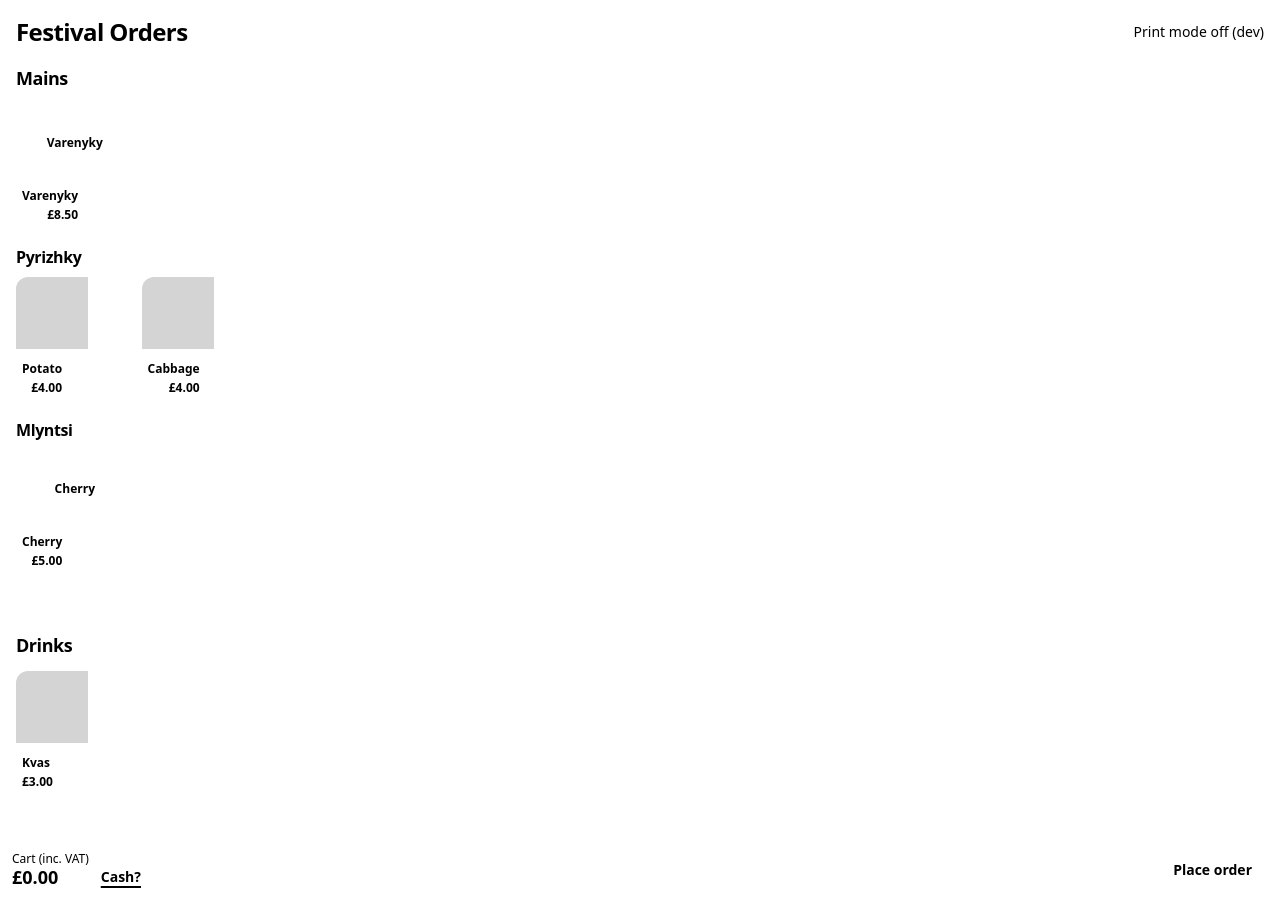
it: FestivalTillPage › adds product without addition class straight to cart
This screenshot has width=1280, height=900.
Click the button with aria-label "Order Kvas": coordinates (75, 733) [16,671,134,796]
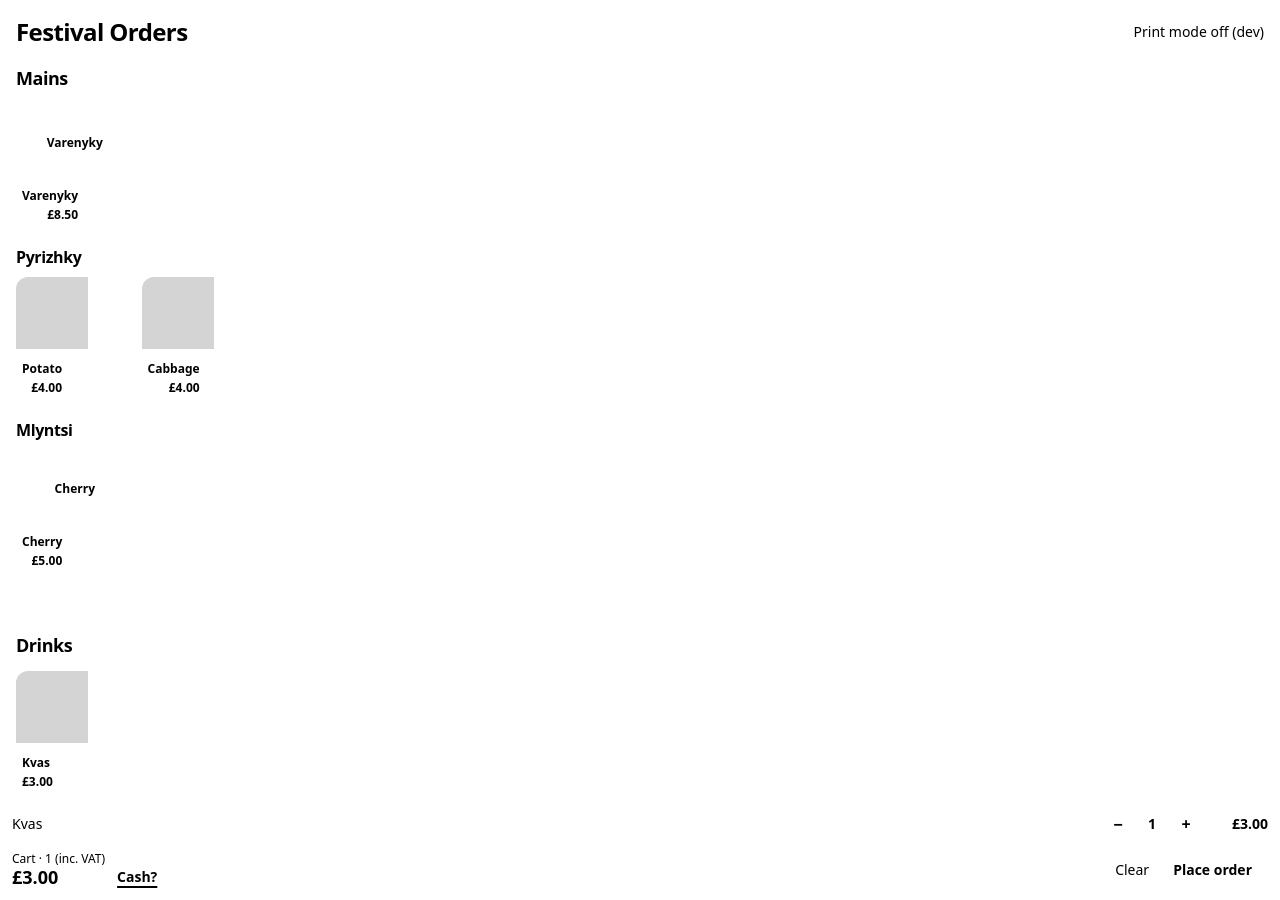
Expected: the button with aria-label "Place order for £3.00" is enabled, [1157,848,1268,892]
Expected: the list named "Festival cart" shows "Kvas", [12,814,42,833]
Expected: the text named "Quantity for Kvas" reads "1", [1148,814,1156,833]
